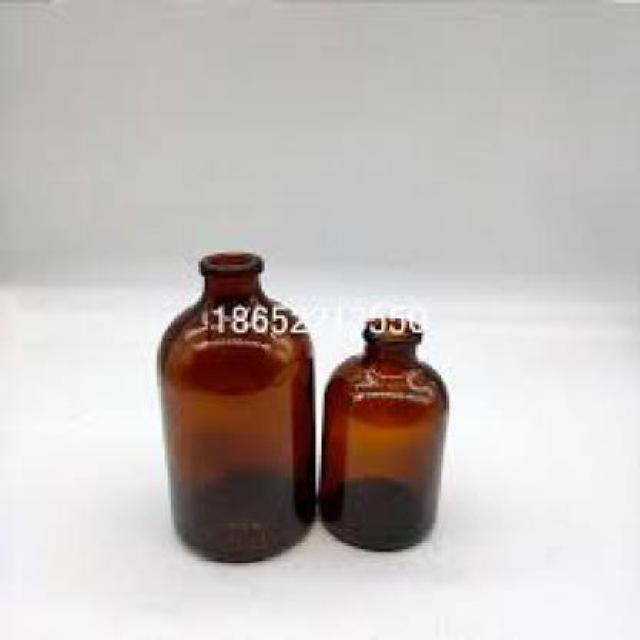kaca: (154, 254, 312, 563), (317, 312, 448, 552)
